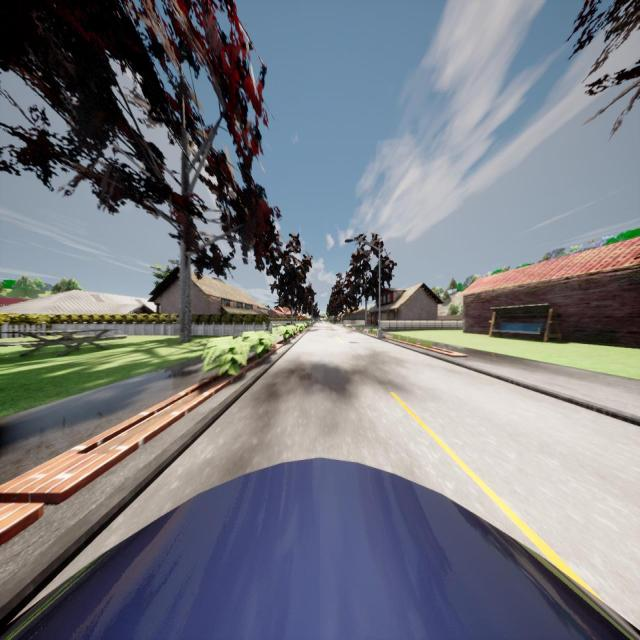Vehicle: (0, 456, 640, 640), (318, 318, 322, 324)
